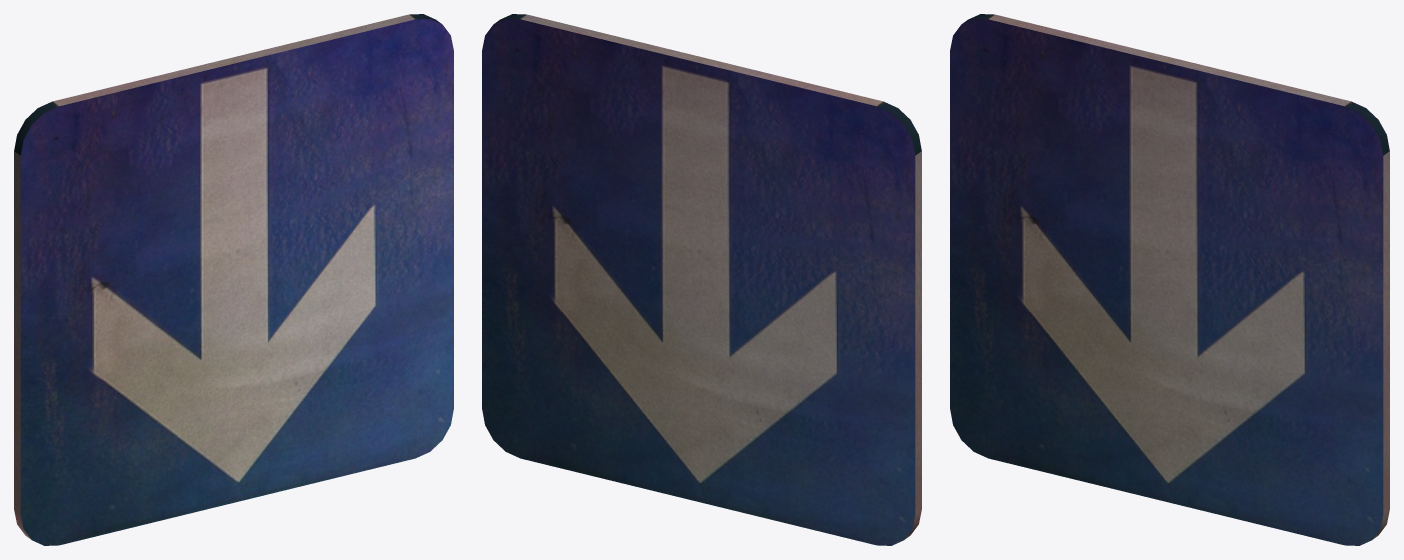
The model's file is sign_arrow.fbx.
3 views of the same model, side by side, from view 1: azimuth 30°, elevation 25°; view 2: azimuth 150°, elevation 25°; view 3: azimuth 330°, elevation 25° (orthographic).
Visible parts, largest first — view 1: Mesh; view 2: Mesh; view 3: Mesh.
Boxes of the visible parts, left/top/right/bottom form: Mesh: left=14, top=14, right=453, bottom=545; Mesh: left=482, top=14, right=921, bottom=545; Mesh: left=950, top=14, right=1389, bottom=545.
Bounding box in the file's own units: 83.98 × 81.37 × 2.24.
